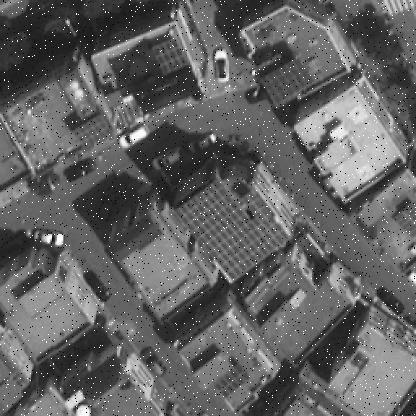solar-pv-panel: (174, 179, 291, 284), (259, 58, 314, 104), (151, 38, 189, 76), (73, 115, 113, 148), (213, 364, 251, 398), (392, 202, 416, 240)
